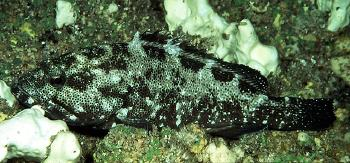Serranidae -Groupers-: (6, 27, 336, 140)
